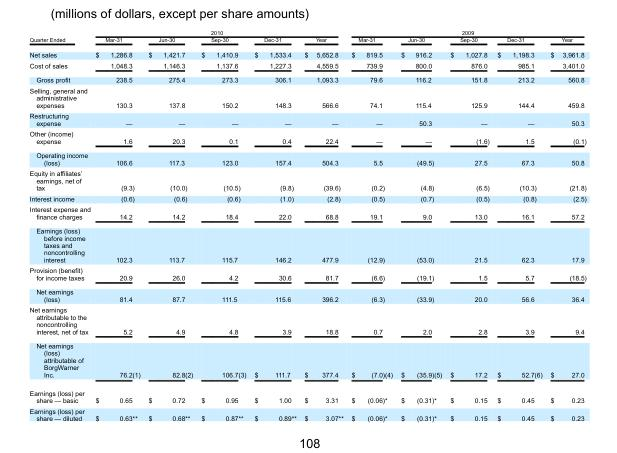table: (28, 28, 585, 421)
table column: (28, 28, 92, 421), (143, 28, 196, 421), (196, 28, 249, 421), (492, 28, 545, 421), (92, 28, 143, 421), (249, 28, 299, 421), (346, 28, 396, 421), (396, 28, 445, 421), (299, 28, 346, 421), (445, 28, 492, 421), (545, 28, 585, 421)
table column header: (28, 28, 585, 46)
table row: (28, 338, 585, 383), (28, 223, 585, 264), (28, 303, 585, 338), (28, 84, 585, 109), (28, 167, 585, 192), (28, 383, 585, 405), (28, 127, 585, 147), (28, 147, 585, 167), (28, 203, 585, 223), (28, 264, 585, 284), (28, 284, 585, 303), (28, 109, 585, 127), (28, 405, 585, 421), (28, 46, 585, 59), (28, 59, 585, 72), (28, 72, 585, 84), (28, 35, 585, 46), (28, 192, 585, 203), (28, 28, 585, 35)
table spanning cell: (92, 28, 346, 35), (346, 28, 585, 35), (28, 28, 92, 46)
